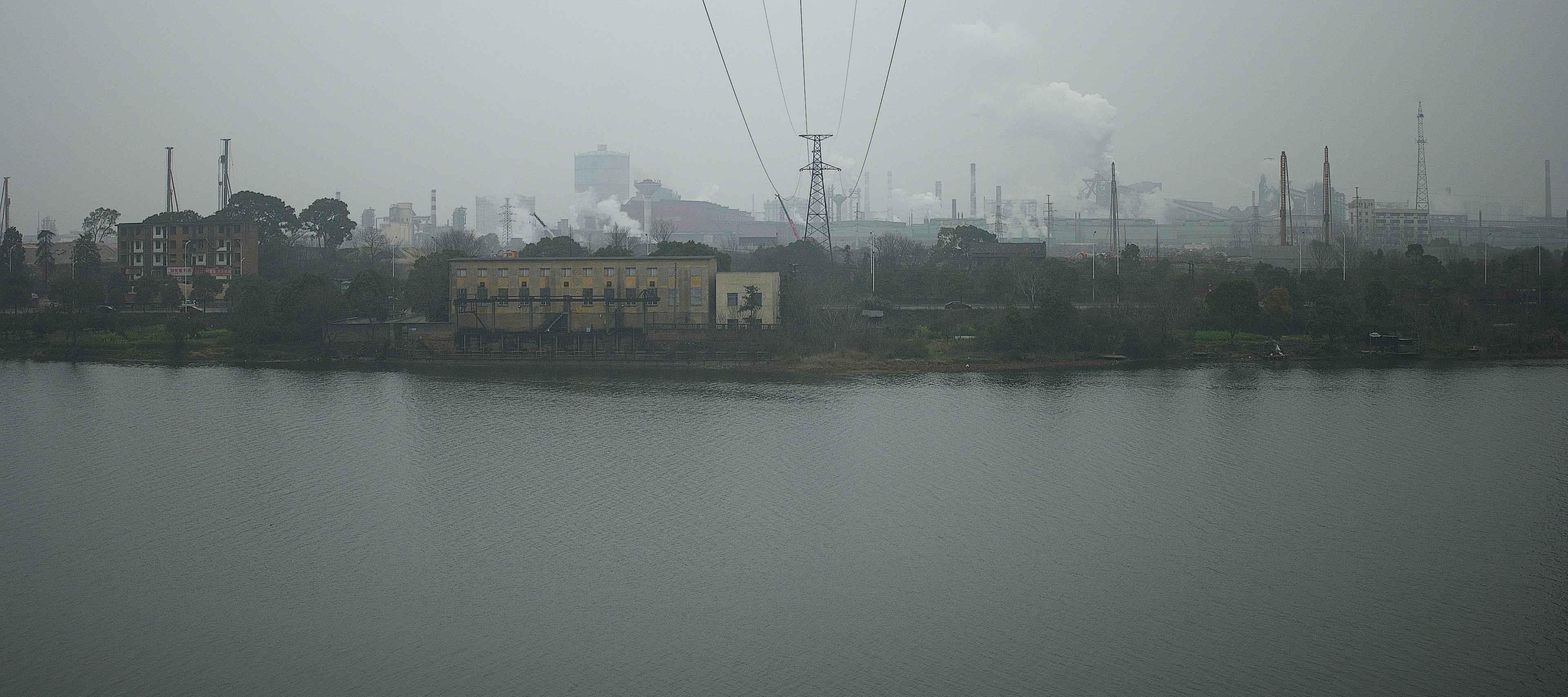工厂排烟: (971, 79, 1117, 183), (454, 178, 549, 246), (1049, 173, 1172, 225), (561, 180, 645, 237), (1256, 152, 1332, 193), (991, 200, 1056, 239), (886, 186, 945, 221), (694, 182, 722, 203), (790, 209, 807, 224)
